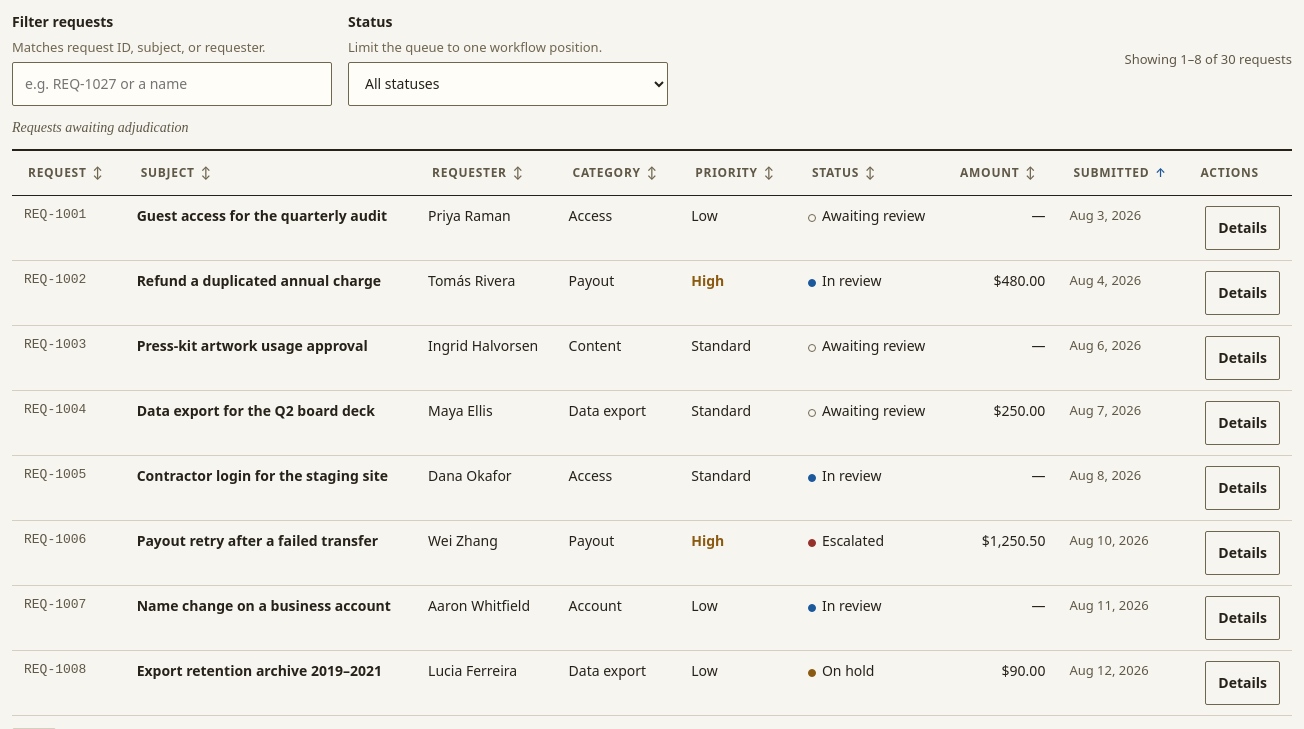
Test: RequestQueue › filters rows by requester and announces the filtered count
Step 1. Type "maya" into the search field labelled "Filter requests" → point(172, 84), box [12,62,332,106]
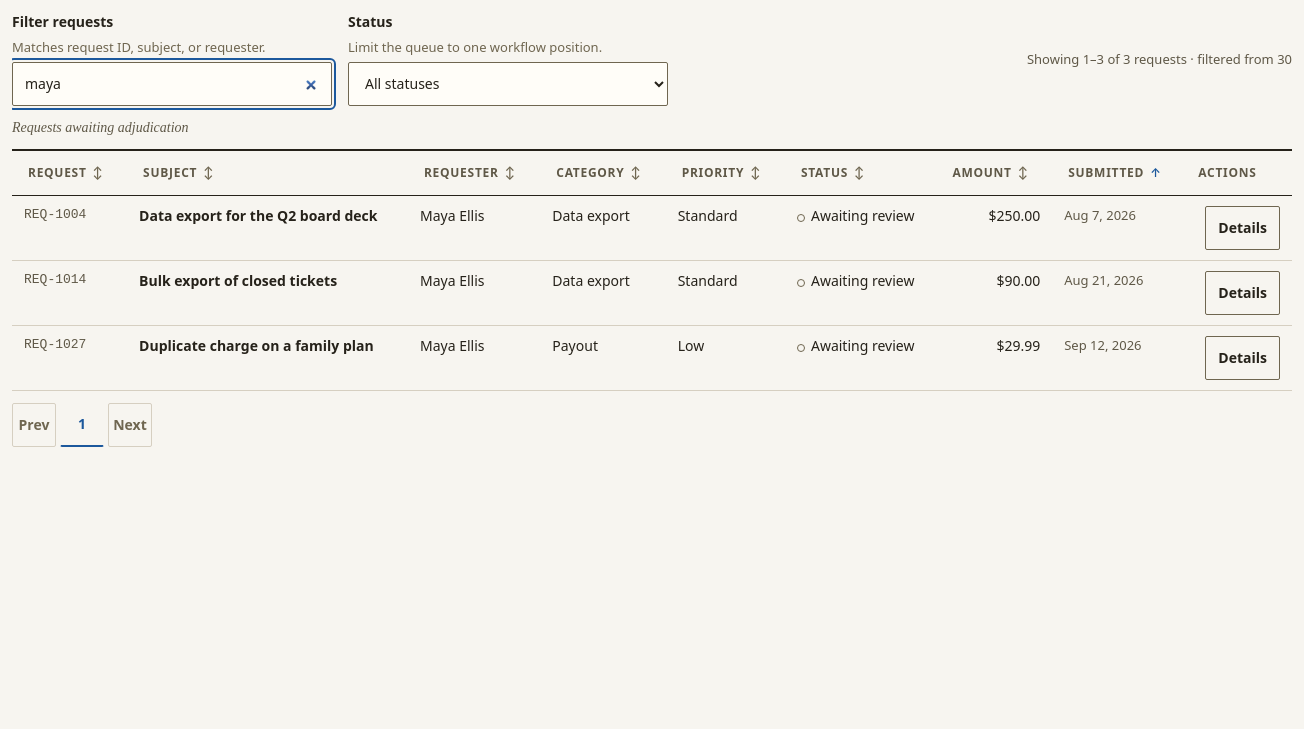
Check: the number of rows is 4, box [12,150,1292,196]; [12,196,1292,261]; [12,261,1292,326]; [12,326,1292,391]
Check: the text "REQ-1014" is shown, box [12,261,127,326]
Check: the text "REQ-1027" is shown, box [12,326,127,391]
